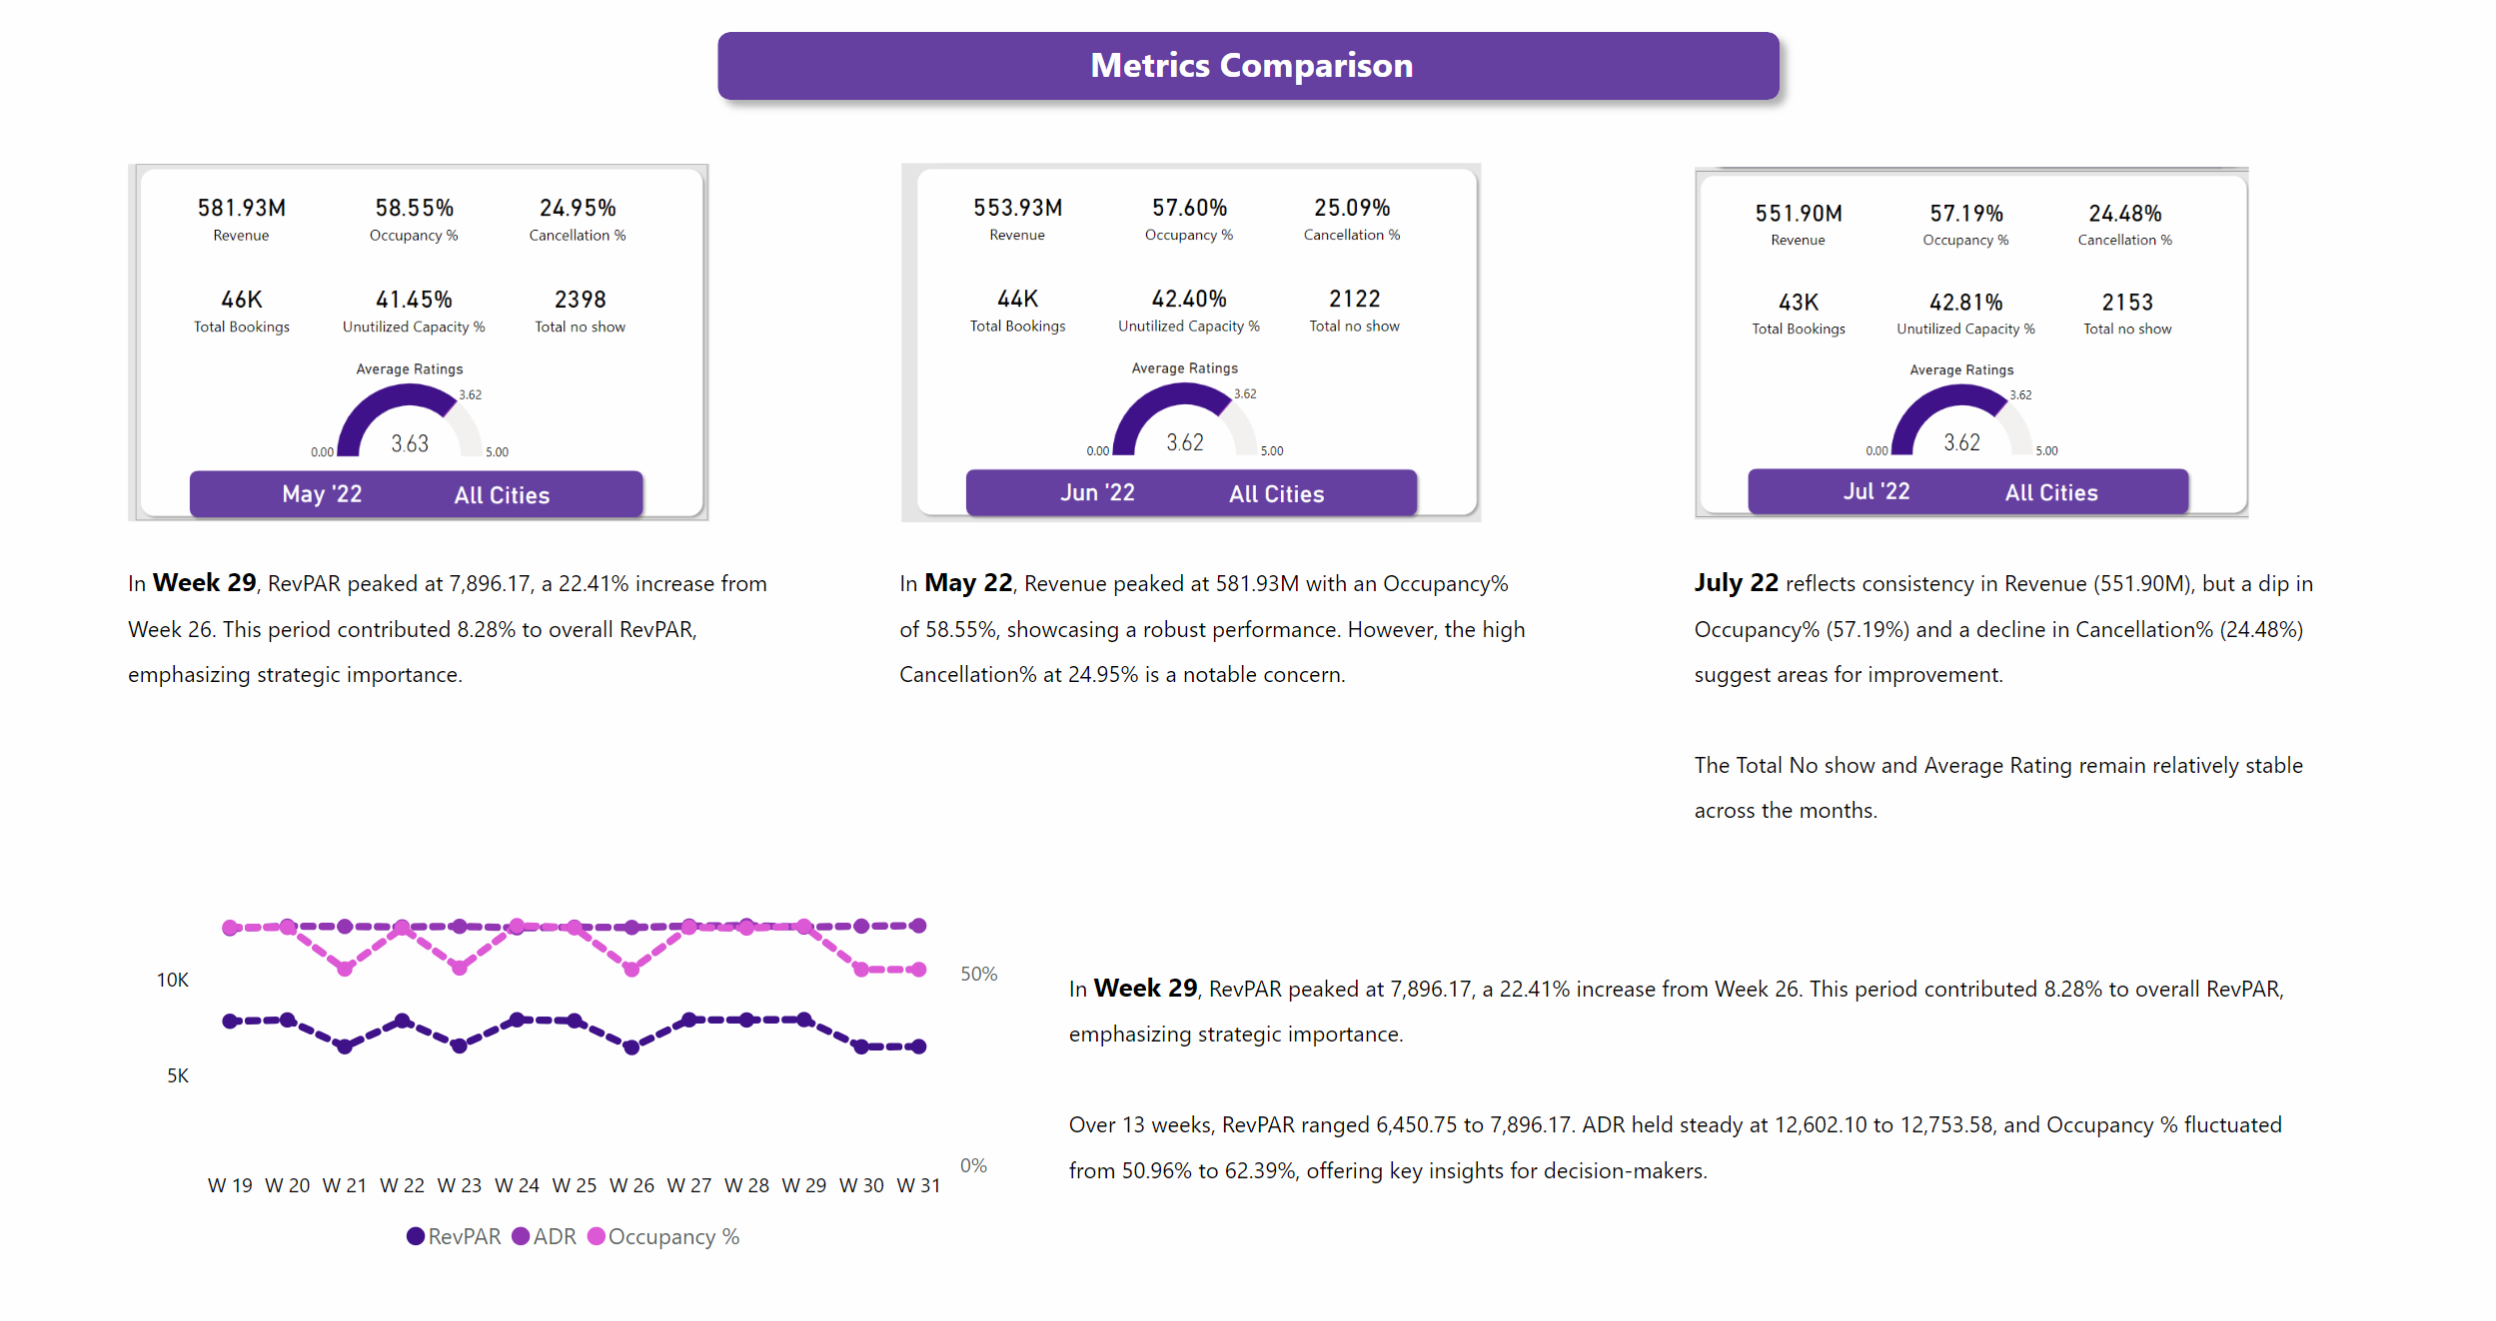

This screenshot's page, from the dashboard's own definition file:
{"tool":"powerbi","page":{"name":"Metrics Comparison","canvas":[1280,720],"ordinal":6},"visuals":[{"type":"lineChart","fields":{"Category":["dim_date.mmm yy.Variation.Date Hierarchy.Month","dim_date.week no"],"Y":["Key_Measures.RevPAR","Key_Measures.ADR"],"Y2":["Key_Measures.Occupancy %"]},"box":[41.8,487,467.5,205.4],"z":0},{"type":"textbox","box":[537.7,518.8,679.5,155.6],"z":1000},{"type":"image","box":[27,86.4,325.3,205.4],"z":1001},{"type":"image","box":[446.2,86.3,326.5,205.1],"z":1002},{"type":"image","box":[876.4,86.4,310.4,205.4],"z":1003},{"type":"textbox","box":[27,299.2,367.1,100.4],"z":1004},{"type":"textbox","box":[446.1,299.2,351.3,100.4],"z":1005},{"type":"textbox","box":[877.3,299.2,352.2,164.5],"z":1006},{"type":"shape","box":[343.9,12.1,593.8,54.8],"z":1007},{"type":"textbox","box":[388.5,20.4,506.5,40],"z":1008}]}

Visuals, with their boxes on the page's 1280x720 design canvas (x1, y1, x2, y2). These are canvas units, not pixel positions in the 2496x1321 screenshot, which may show the page scaled, cropped or inside an application window:
lineChart - dim_date.mmm yy.Variation.Date Hierarchy.Month x dim_date.week no: BBox(42, 487, 509, 692)
textbox: BBox(538, 519, 1217, 674)
image: BBox(27, 86, 352, 292)
image: BBox(446, 86, 773, 291)
image: BBox(876, 86, 1187, 292)
textbox: BBox(27, 299, 394, 400)
textbox: BBox(446, 299, 797, 400)
textbox: BBox(877, 299, 1230, 464)
shape: BBox(344, 12, 938, 67)
textbox: BBox(388, 20, 895, 60)
